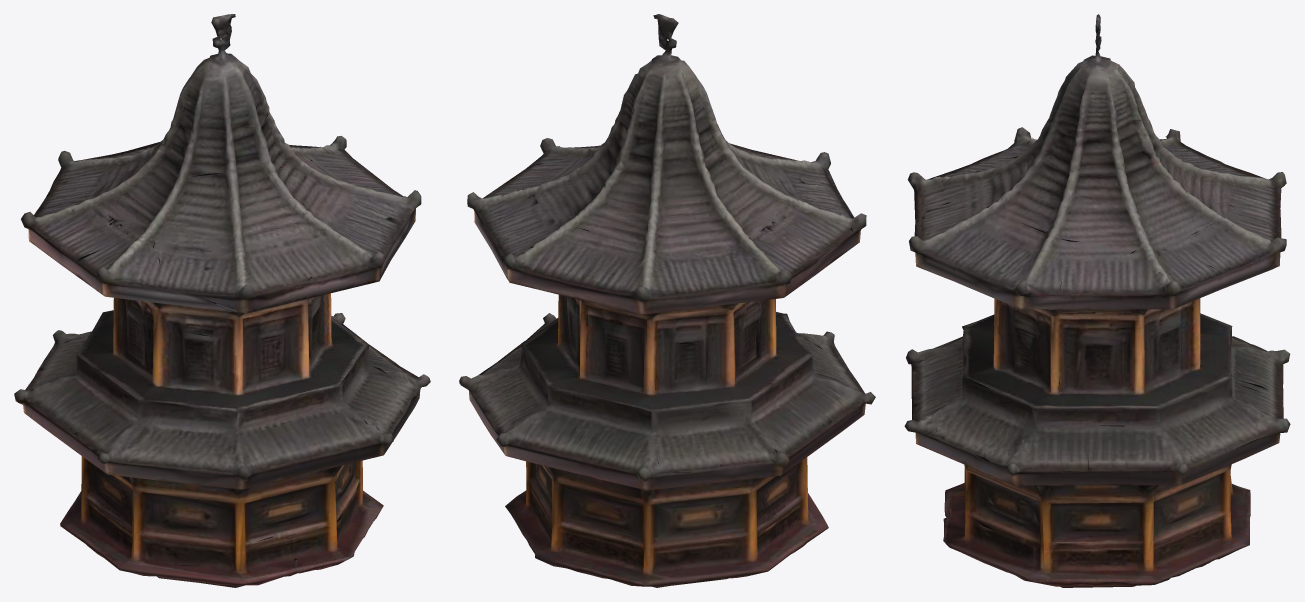
Rendered from bq_granary.bk.glb.
3 views of the same model, side by side, from view 1: azimuth 30°, elevation 25°; view 2: azimuth 150°, elevation 25°; view 3: azimuth 270°, elevation 25° (orthographic).
Visible parts, largest first — view 1: lo; view 2: lo; view 3: lo.
Part boxes in pixels (x1,y1,x2,y2): lo: (14,14,430,587); lo: (459,14,875,587); lo: (904,14,1290,587).
Bounding box in the file's own units: 1.3 × 1.98 × 1.31.
Materials: 1 (1 with a texture image).
